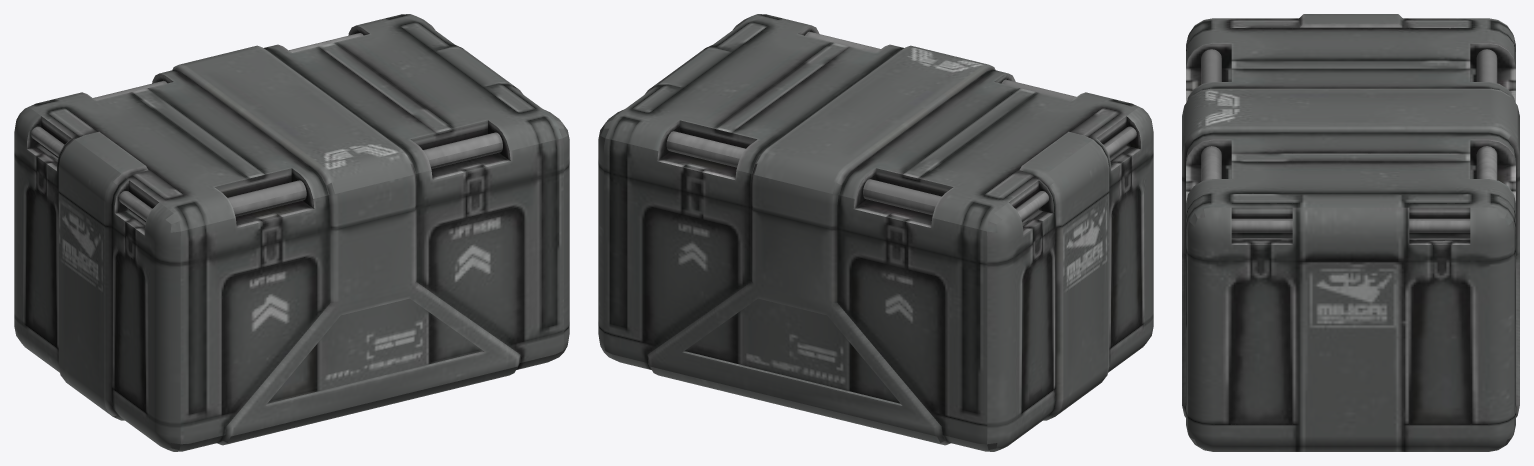
The model's file is crate.gltf.
3 renders of one model, left to right at view 1: azimuth 30°, elevation 25°; view 2: azimuth 150°, elevation 25°; view 3: azimuth 270°, elevation 25°, orthographic.
Parts seen in each view (by area): view 1: crate; view 2: crate; view 3: crate.
Boxes of the visible parts, <box> form: crate: <box>14,14,569,451</box>; crate: <box>598,14,1153,451</box>; crate: <box>1182,14,1519,451</box>.
Size of the model in its own units: 2.39 by 1.38 by 1.66.
1 material, 1 textured.
